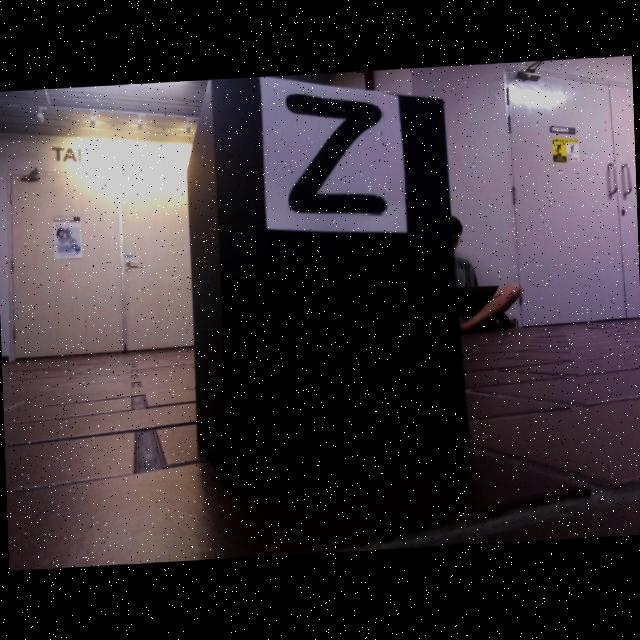Z: (287, 96, 385, 215)
